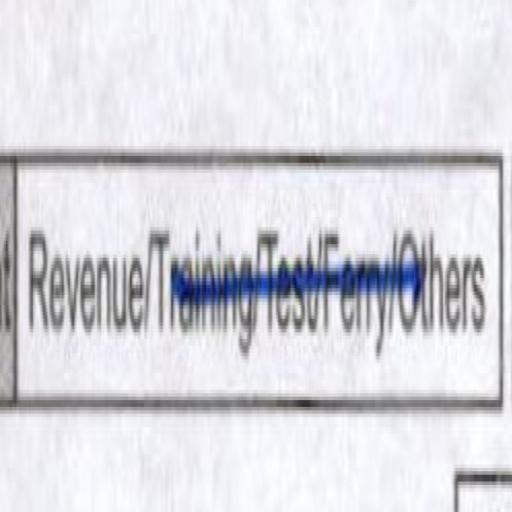check: (15, 149, 143, 415)
